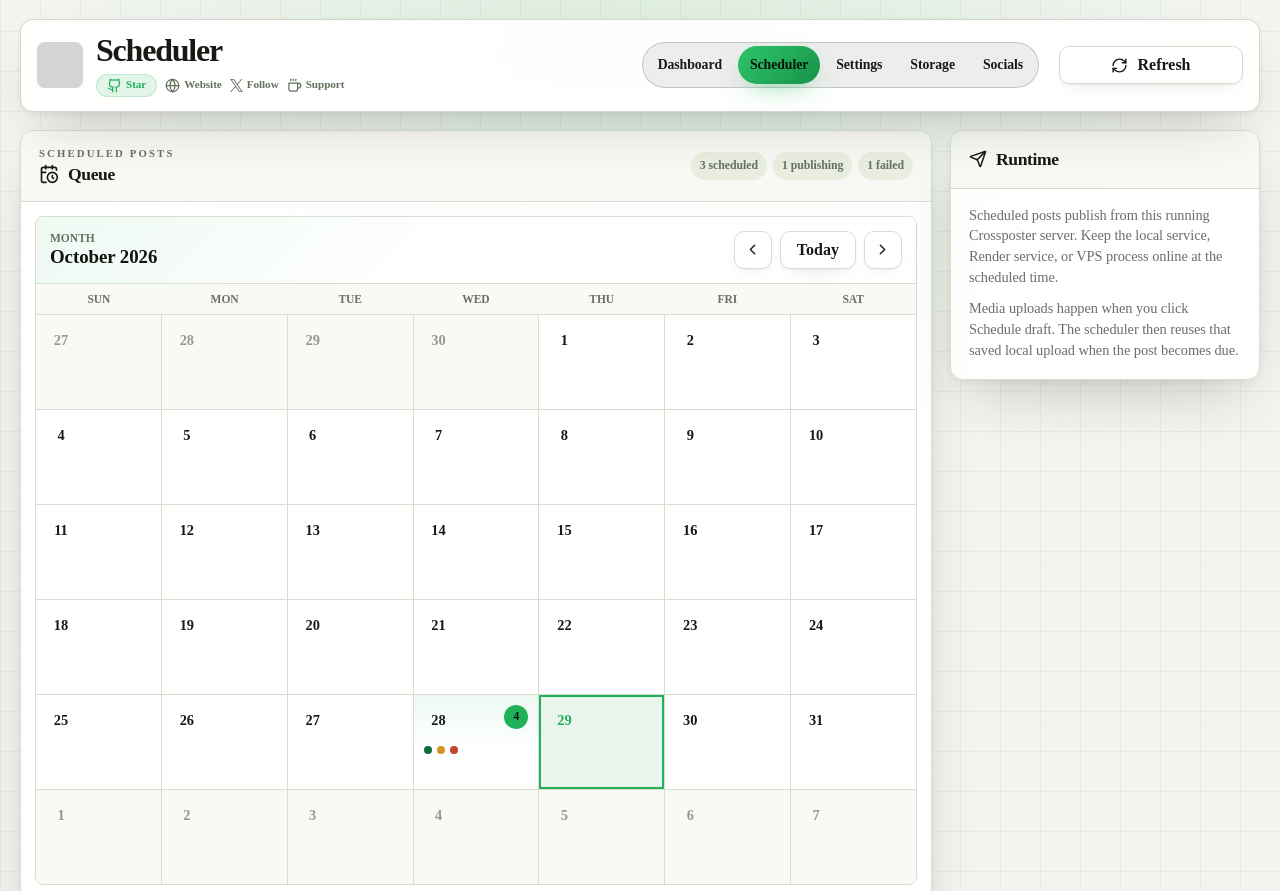
keeps data/edit state on Save timing HTTP and transport failures and releases busy state
This screenshot has width=1280, height=891.
Click the button named "10/28/2026:": (476, 742) [414,695,538,789]
(page scrolled)
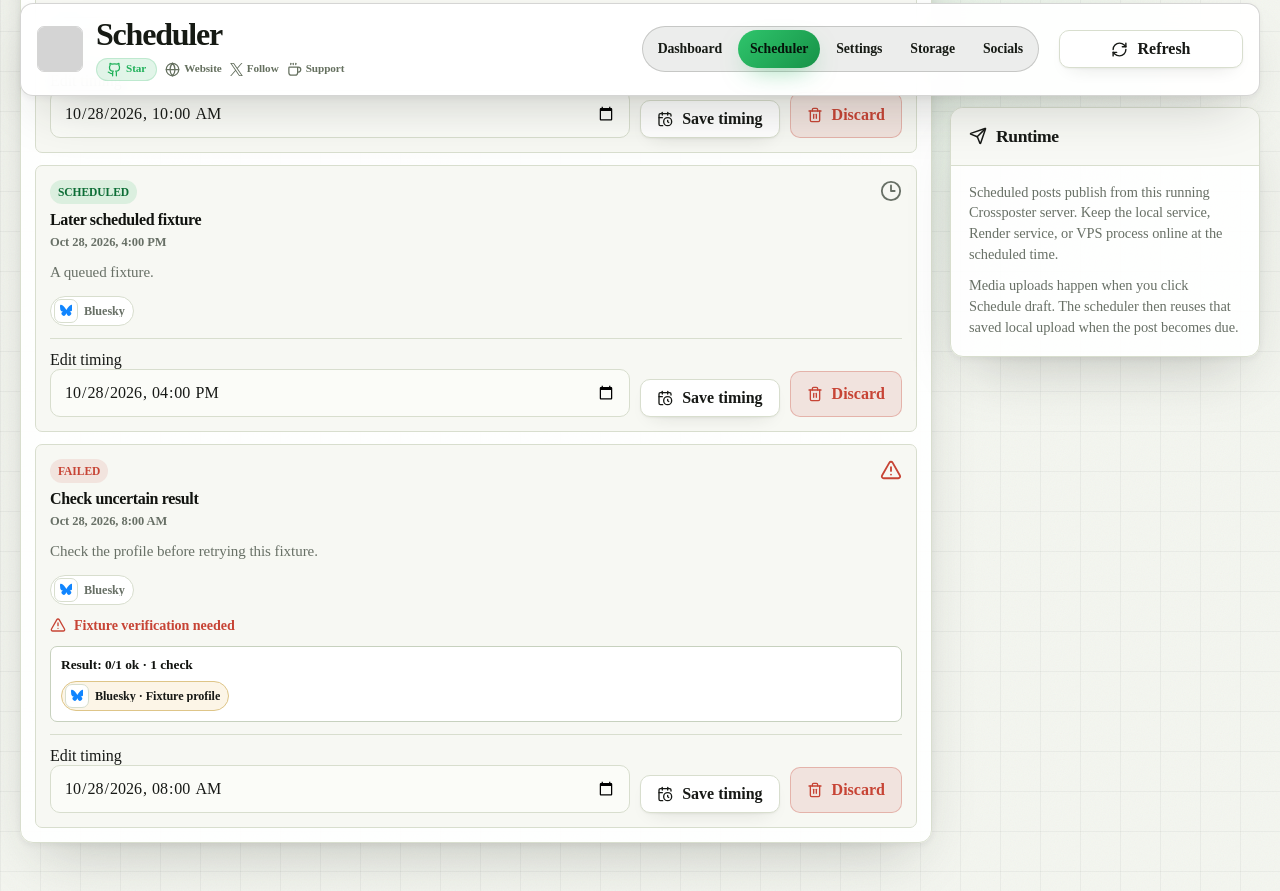
Click the 3rd button "Save timing": (710, 794) [640,775,780,813]
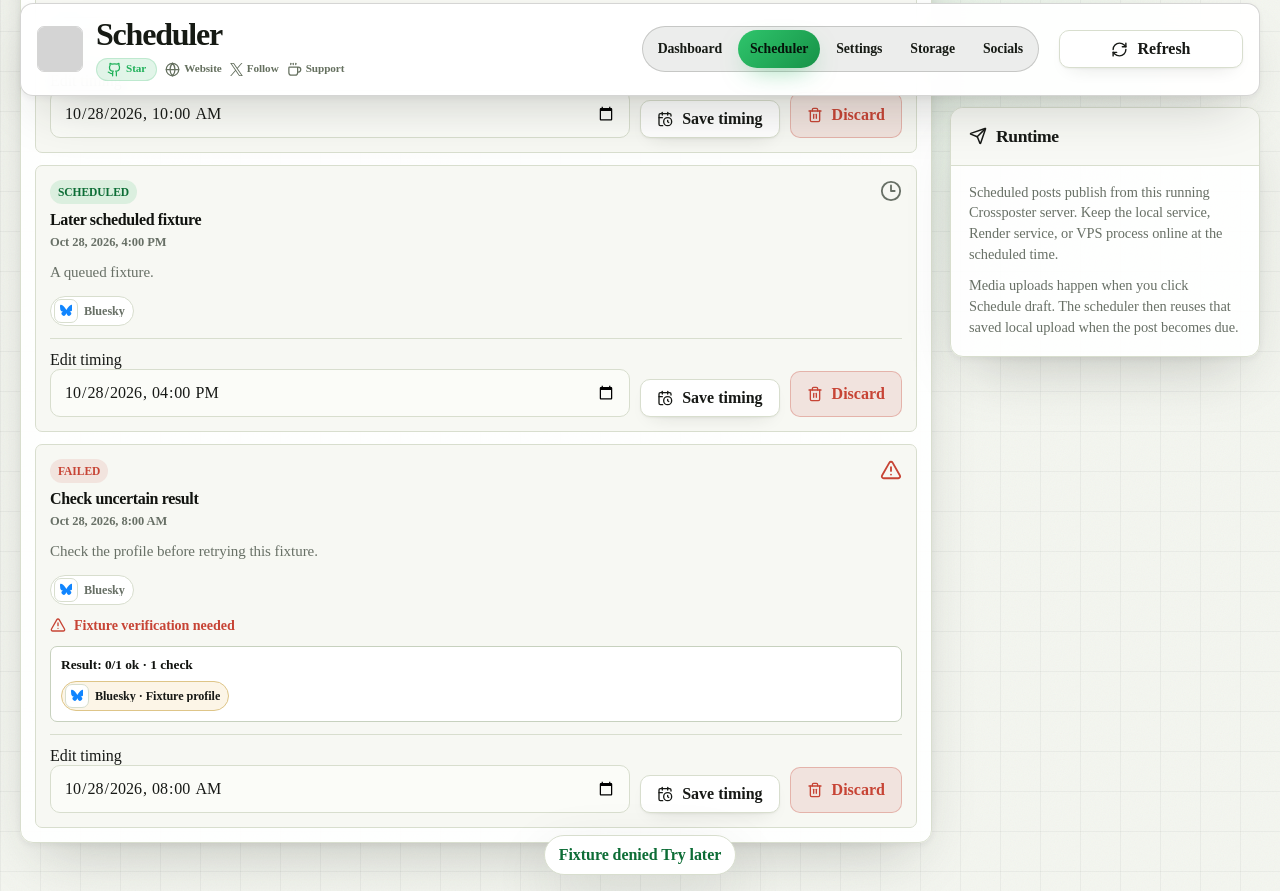
Now the 3rd button "Save timing" is enabled
Now the text "Fixture denied Try later" is shown, box [544,835,736,875]
Click the 3rd button "Save timing": (710, 794) [640,775,780,813]
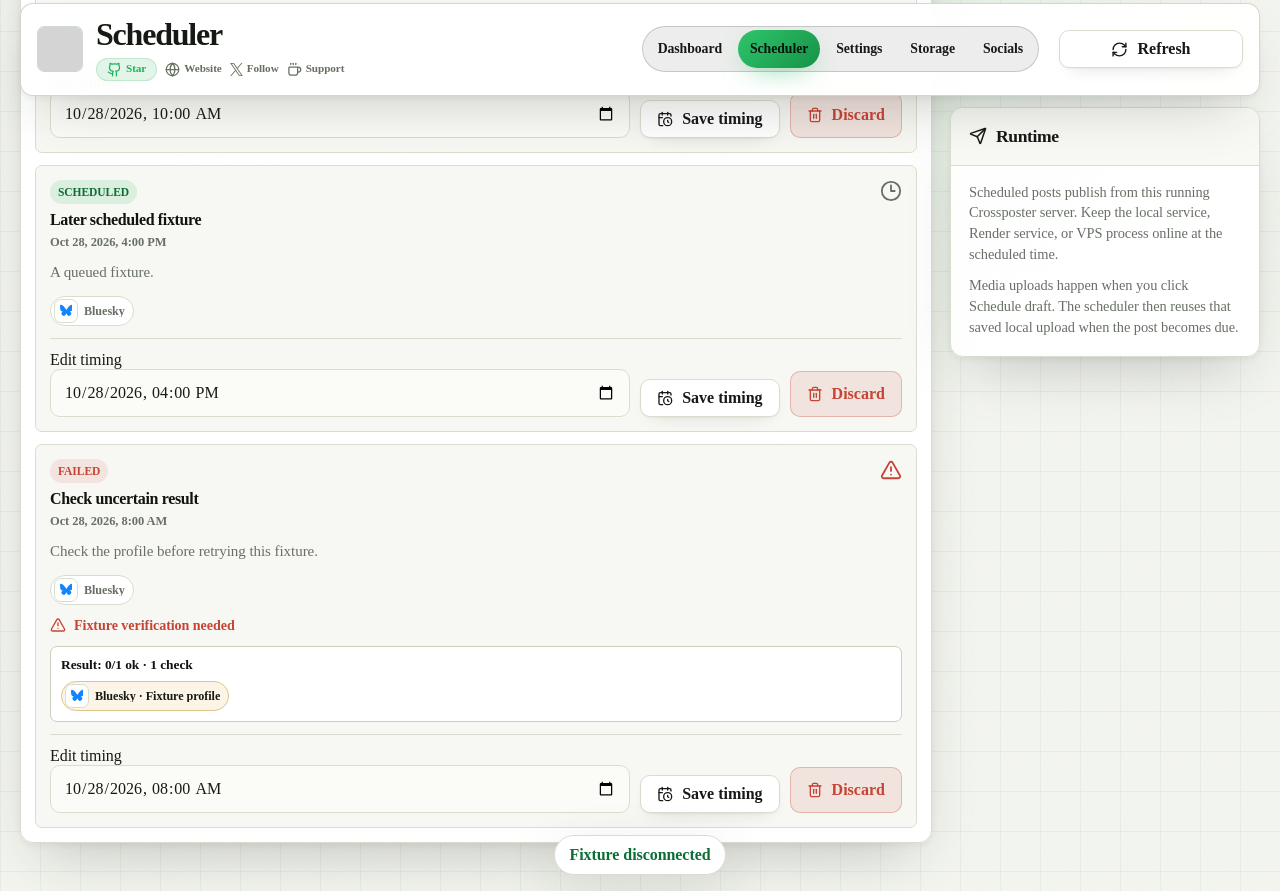
Now the 3rd button "Save timing" is enabled
Now the text "Fixture disconnected" is shown, box [554,835,726,875]
Click the 3rd button "Save timing": (710, 794) [640,775,780,813]
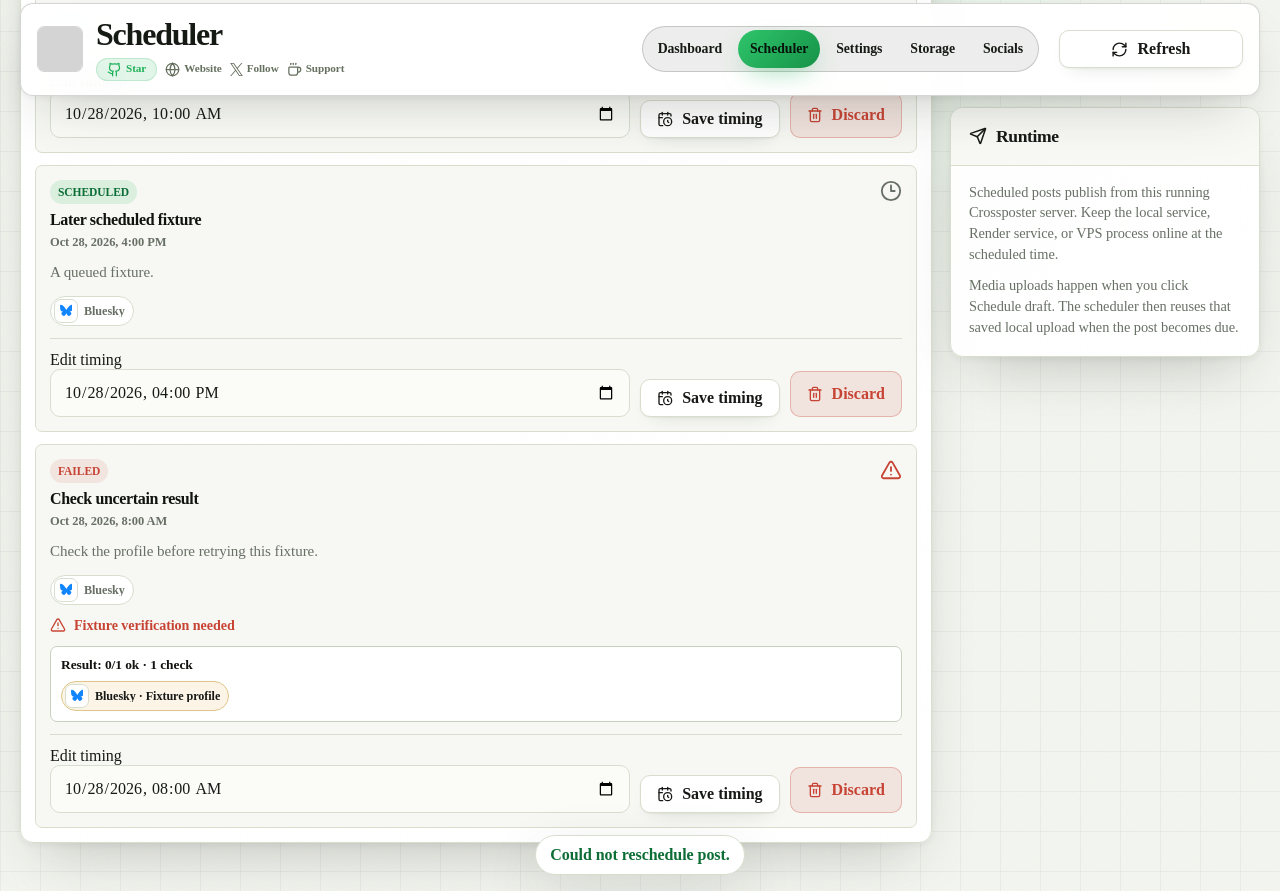
Now the field labelled "Edit timing" below "· Fixture profile" is not empty, box [50,765,630,813]
Now the text "Could not reschedule post." is shown, box [535,835,745,875]
